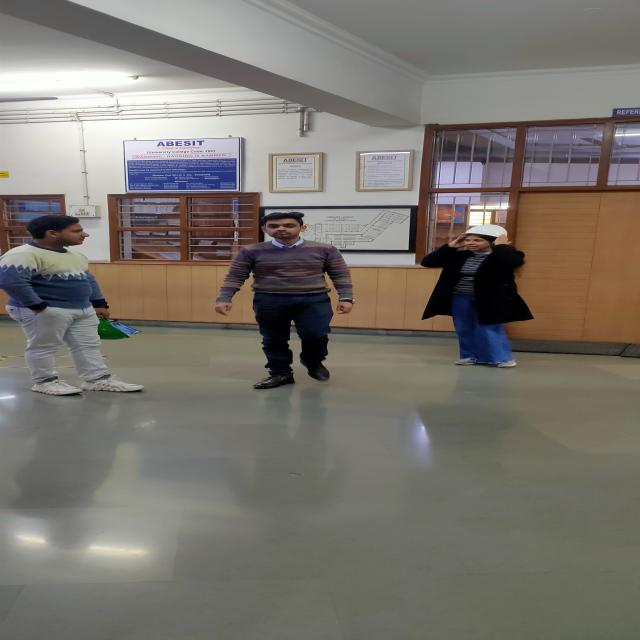no jacket: (420, 222, 535, 369)
unsafe: (2, 215, 145, 397), (215, 210, 357, 392)
